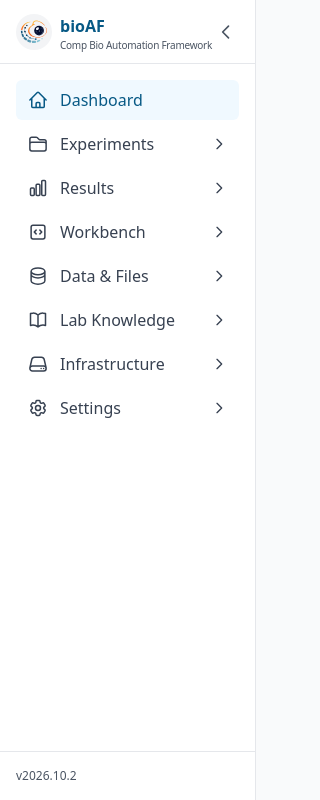
Test: Sidebar component gating › shows Notebooks child when jupyterhub is enabled
Click the button "Workbench" at (128, 232), box [16, 212, 239, 252]
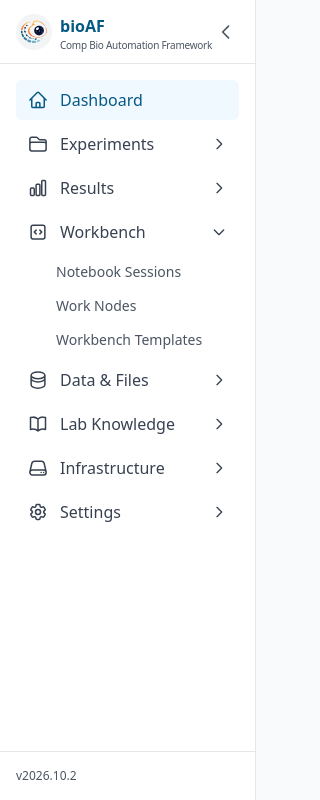
Expected: the link "Notebook Sessions" is shown, [56, 262, 181, 281]
